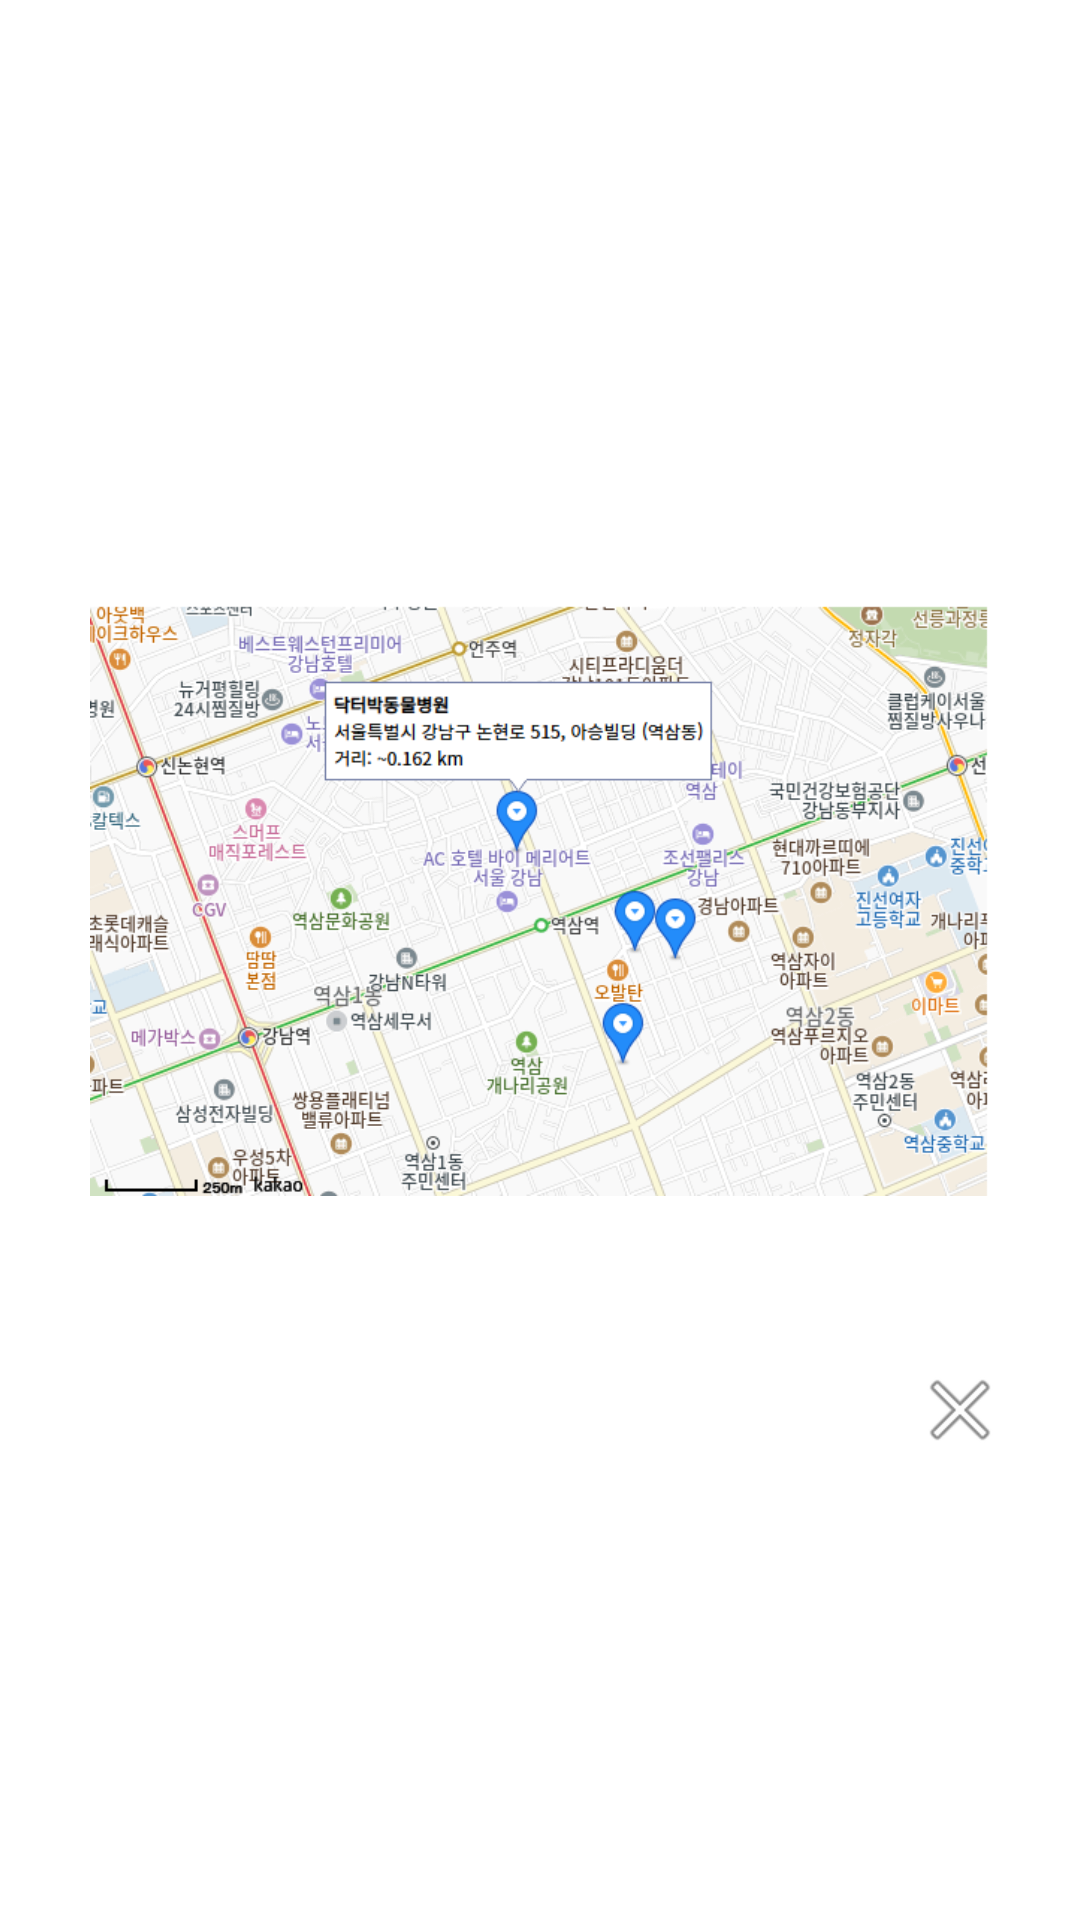

Named icons in this screenshot (1080px x 1920px) and their centers, (x,y):
close clear cancel: (960,1410)
